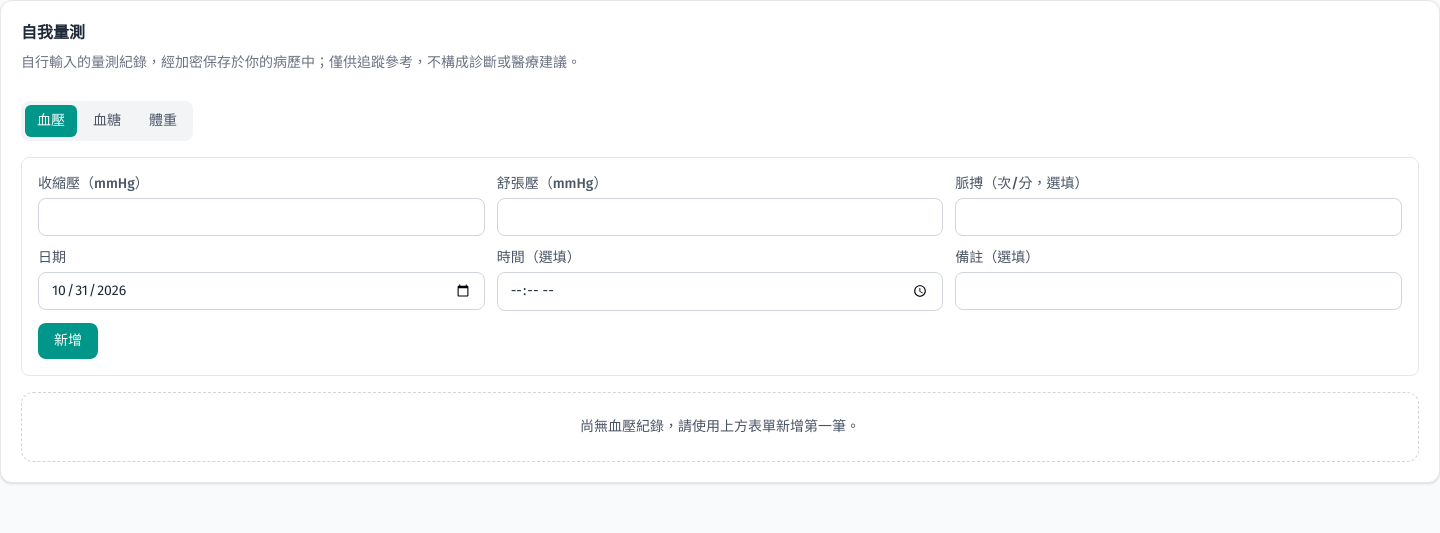
Test: Measurements 自我量測 › 新增紀錄 › 收縮壓不是數字 → 顯示錯誤且不新增
Type "12a" into the field labelled "收縮壓（mmHg）".
click(261, 217); type("12a")  # box [38,198,485,236]
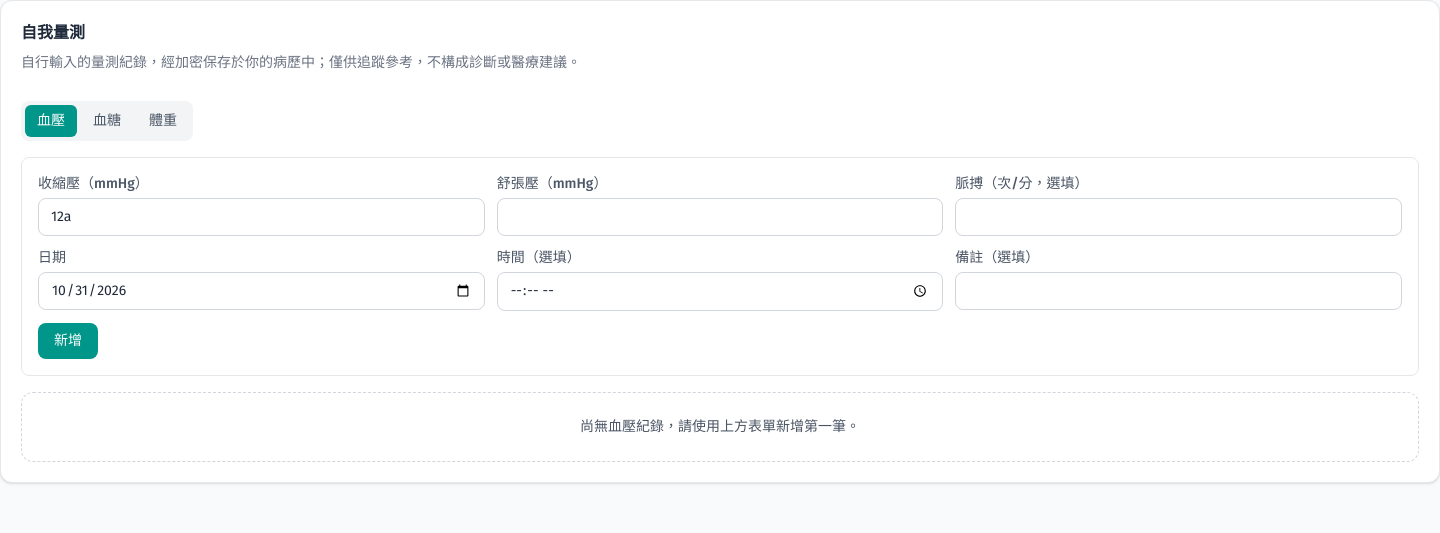
Type "80" into the field labelled "舒張壓（mmHg）".
click(720, 217); type("80")  # box [497,198,943,236]
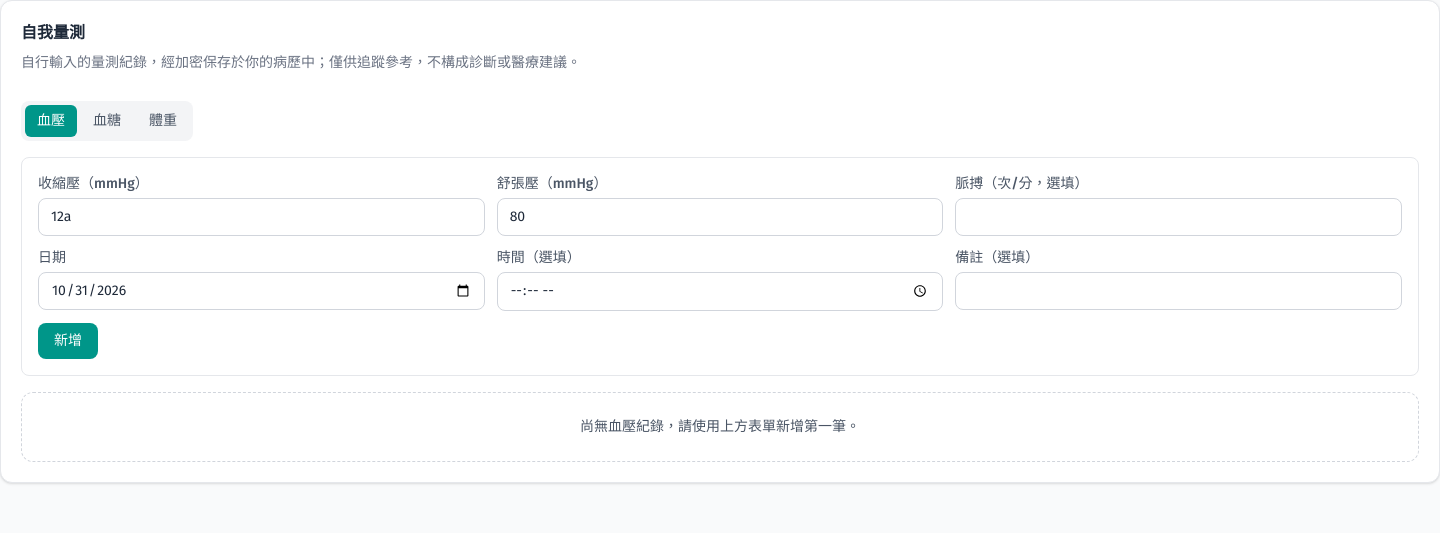
Click the button "新增".
click(68, 341)  # box [38,323,98,359]
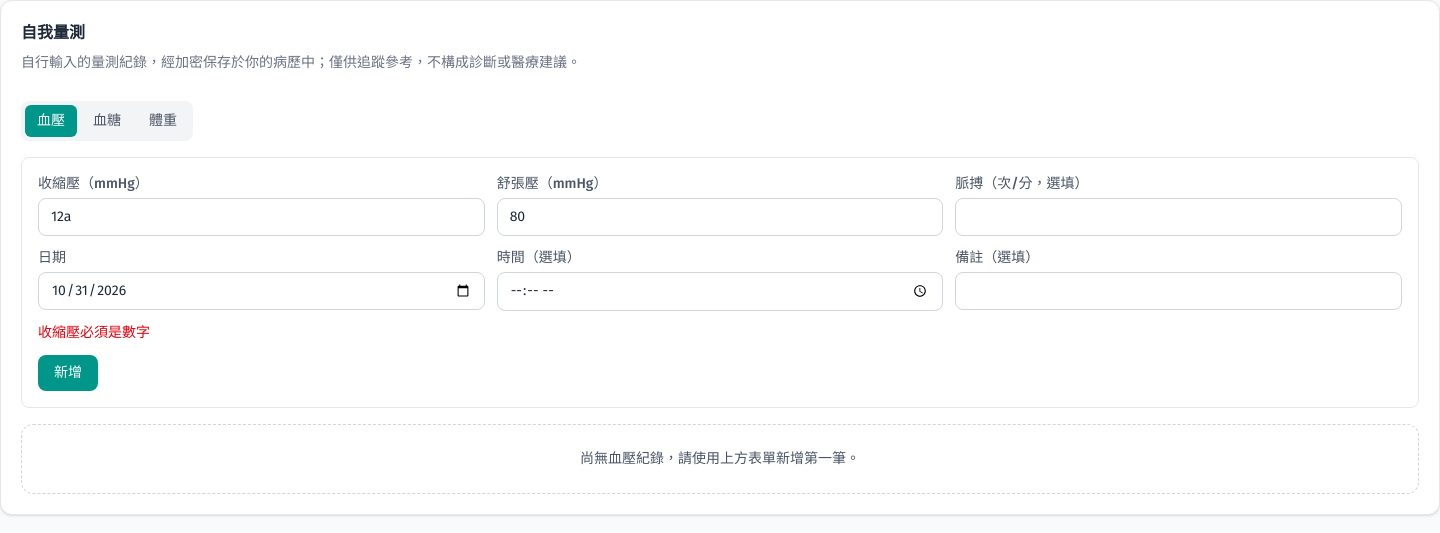
Check: the message reads "收縮壓必須是數字", box [38,324,150,341]
